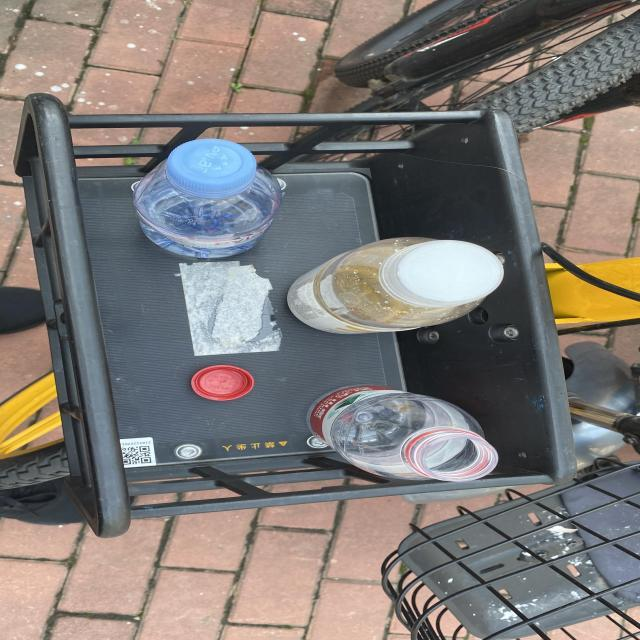Pet_Bottle: (303, 376, 512, 494), (303, 231, 503, 350), (140, 154, 288, 273)
